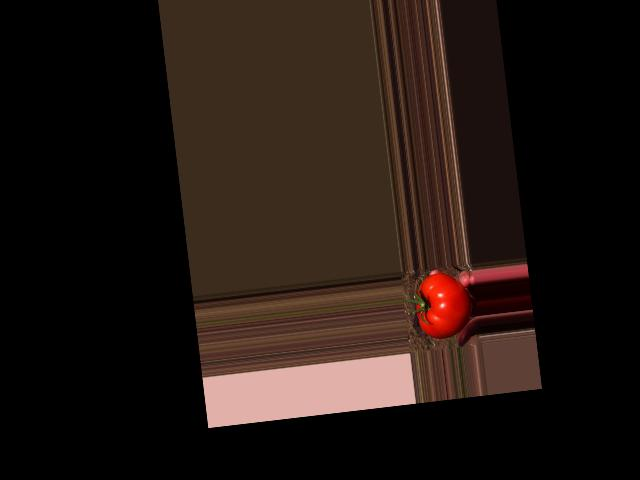tomato: (412, 269, 475, 341)
